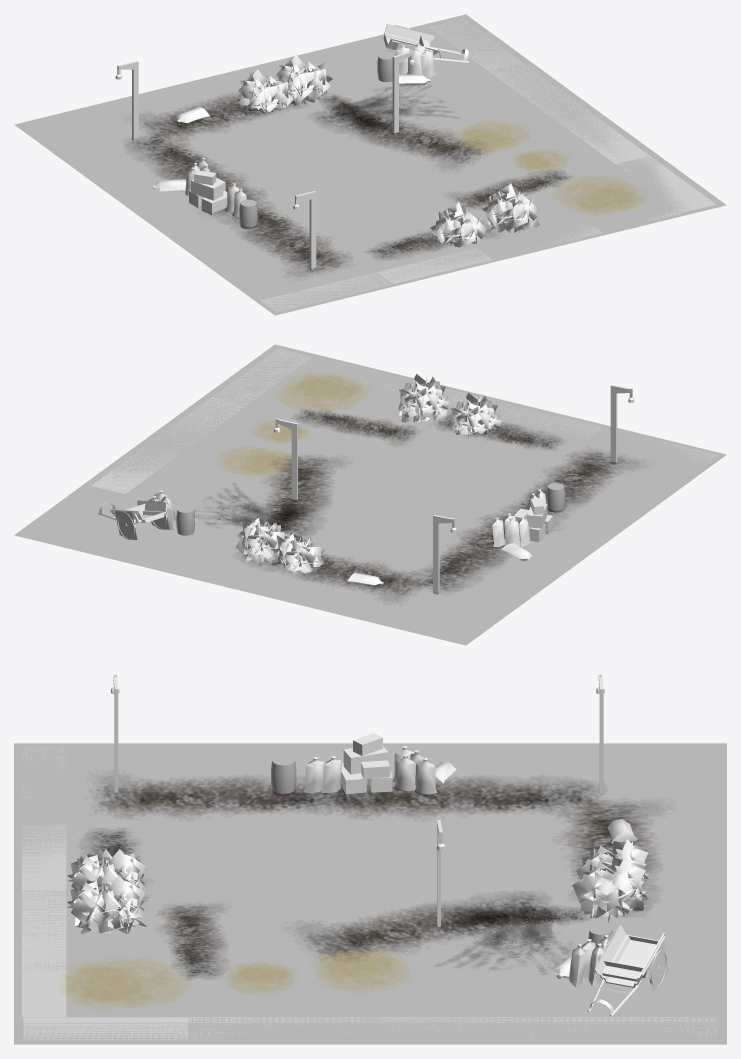
Rendered from propsonly_mill.gltf.
3 views of the same model, one above another, from view 1: azimuth 30°, elevation 25°; view 2: azimuth 150°, elevation 25°; view 3: azimuth 270°, elevation 25° (orthographic). The views are drawn at different scales.
Visible parts, largest first — view 1: file_b2_ground3.002, file_b2_ground1.003, file_b2_ground3.004, file_b2_ground2.001, file_b2_ground3.007, file_b2_ground3.001, file_b2_ground1.028, file_b2_ground1.006, file_b2_ground3.005, file_b2_ground1.001, file_b2_ground3.003, file_b2_ground1.004 (+27 smaller); view 2: file_b2_ground1.028, file_b2_ground3.004, file_b2_ground3.005, file_b2_ground3.001, file_b2_ground3.002, file_b2_ground3.007, file_b2_ground3.003, file_b2_ground1.006, file_b2_ground1.003, file_b2_ground1.004, file_b2_ground1, file_b2_ground2.001 (+27 smaller); view 3: file_b2_ground3.002, file_b2_ground3.005, file_b2_ground3.001, file_b2_ground1.003, file_b2_ground3.007, file_b2_ground1.028, file_b2_ground2.001, file_b2_ground1, file_b2_ground1.002, file_b2_ground3.003, file_b2_ground1.006, file_b2_ground1.005 (+30 smaller).
Part boxes in pixels (<box>): file_b2_ground3.002: <box>205,235,395,315</box>; file_b2_ground1.003: <box>199,117,378,195</box>; file_b2_ground3.004: <box>541,154,726,234</box>; file_b2_ground2.001: <box>416,61,598,135</box>; file_b2_ground3.007: <box>298,88,488,160</box>; file_b2_ground3.001: <box>14,97,198,170</box>; file_b2_ground1.028: <box>258,166,440,238</box>; file_b2_ground1.006: <box>369,142,552,213</box>; file_b2_ground3.005: <box>473,107,656,180</box>; file_b2_ground1.001: <box>141,195,331,267</box>; file_b2_ground3.003: <box>124,68,313,143</box>; file_b2_ground1.004: <box>321,209,494,285</box>; file_b2_ground1.028: <box>362,448,552,525</box>; file_b2_ground3.004: <box>205,344,395,424</box>; file_b2_ground3.005: <box>141,391,331,468</box>; file_b2_ground3.001: <box>352,567,535,645</box>; file_b2_ground3.002: <box>542,425,726,500</box>; file_b2_ground3.007: <box>194,464,372,540</box>; file_b2_ground3.003: <box>236,544,425,618</box>; file_b2_ground1.006: <box>269,421,442,490</box>; file_b2_ground1.003: <box>304,499,488,567</box>; file_b2_ground1.004: <box>426,398,605,471</box>; file_b2_ground1: <box>14,484,178,564</box>; file_b2_ground2.001: <box>84,438,255,510</box>; file_b2_ground3.002: <box>14,743,205,824</box>; file_b2_ground3.005: <box>188,964,379,1044</box>; file_b2_ground3.001: <box>535,743,726,824</box>; file_b2_ground1.003: <box>361,817,552,897</box>; file_b2_ground3.007: <box>361,890,552,971</box>; file_b2_ground1.028: <box>188,817,379,897</box>; file_b2_ground2.001: <box>362,964,552,1044</box>; file_b2_ground1: <box>535,964,726,1044</box>; file_b2_ground1.002: <box>361,743,552,824</box>; file_b2_ground3.003: <box>535,817,726,897</box>; file_b2_ground1.006: <box>202,890,361,970</box>; file_b2_ground1.005: <box>14,890,205,971</box>.
Size of what is drawn, in the model's own units: 4.1 by 0.8508 by 4.1.
